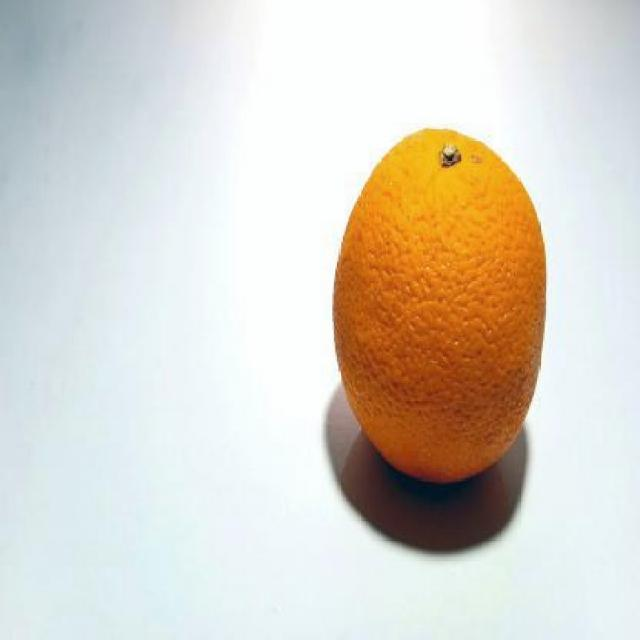Jeruk Sudah Matang: (333, 128, 547, 488)
